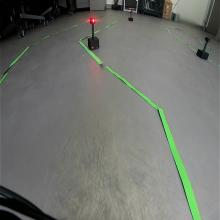red: (90, 18, 96, 25)
